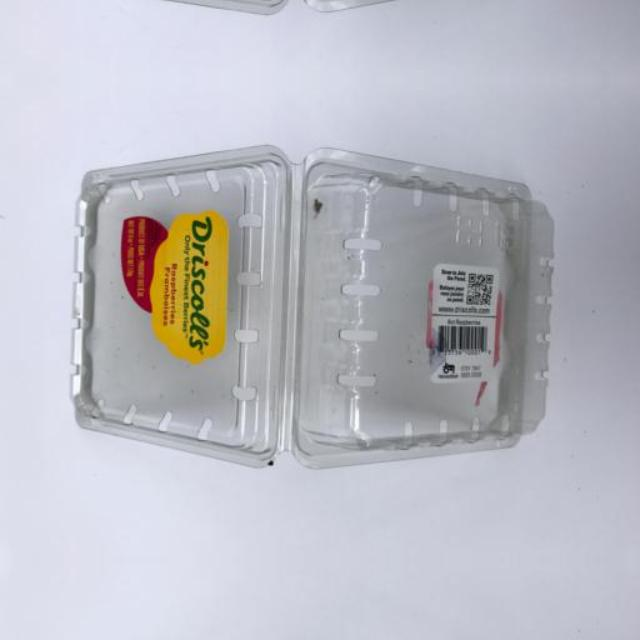Plastic: (51, 125, 566, 481), (51, 0, 566, 35), (51, 639, 566, 640)
